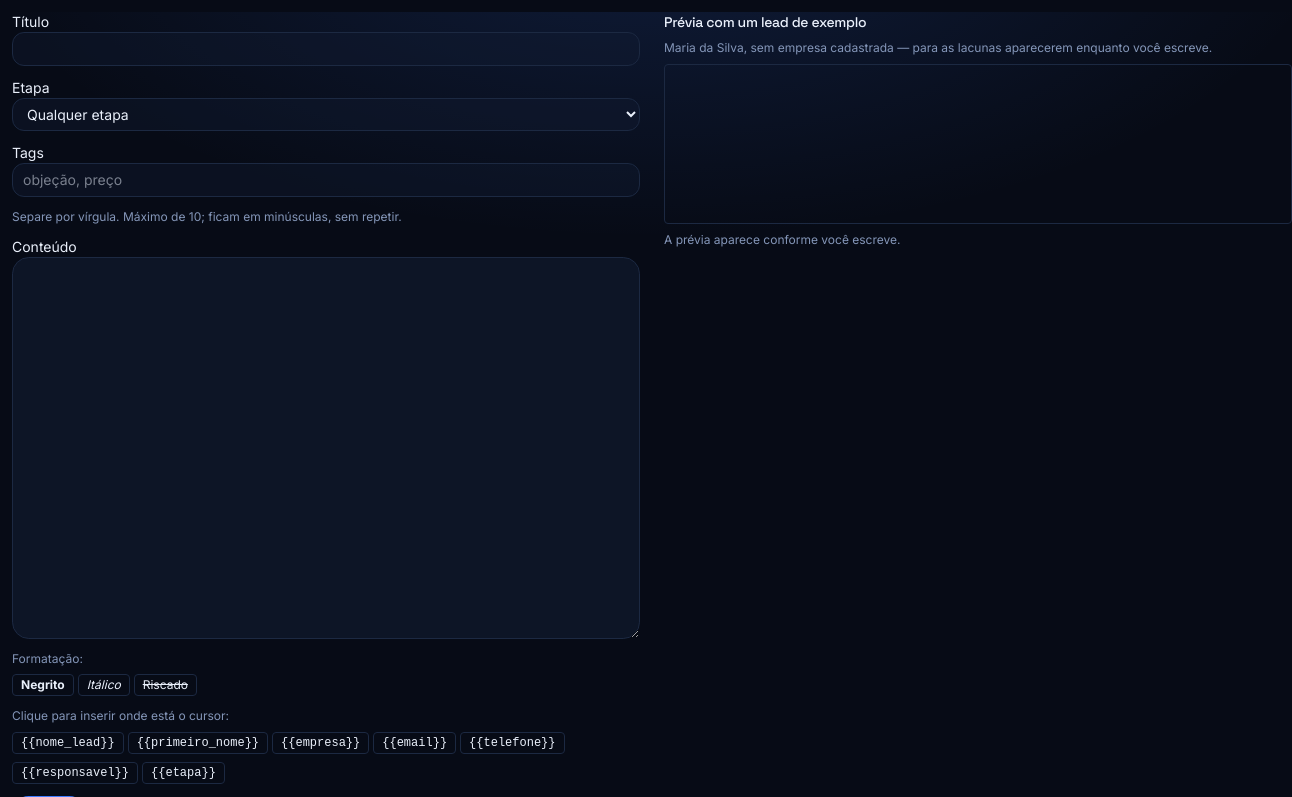
Scenario: Editor de script › Caso 3c: Negrito com selecao envolve exatamente a selecao
This screenshot has width=1292, height=797.
In the text box labelled "Conteúdo": (326, 448) [12,257,640,639], type "Olá mundo, tudo bem?"
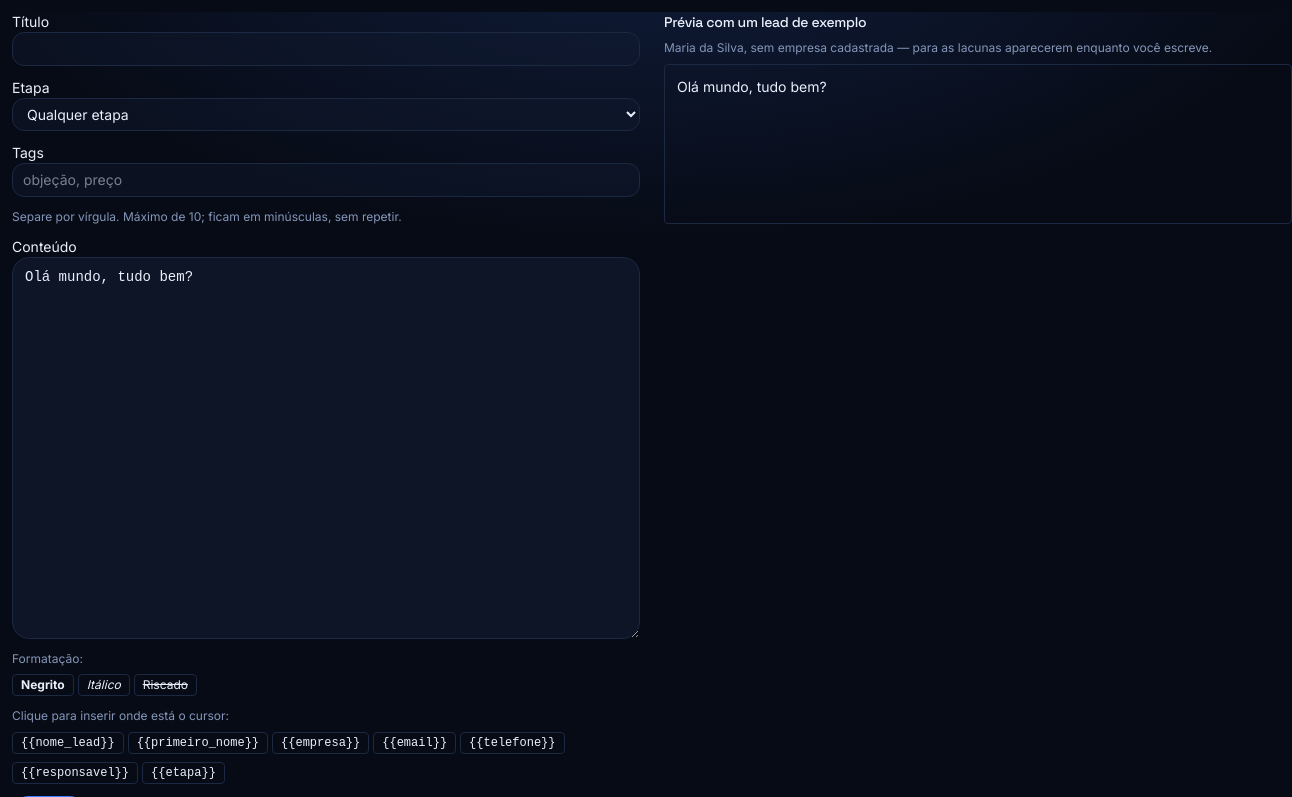
Click the button "Negrito": click(43, 685) [12,674,74,696]
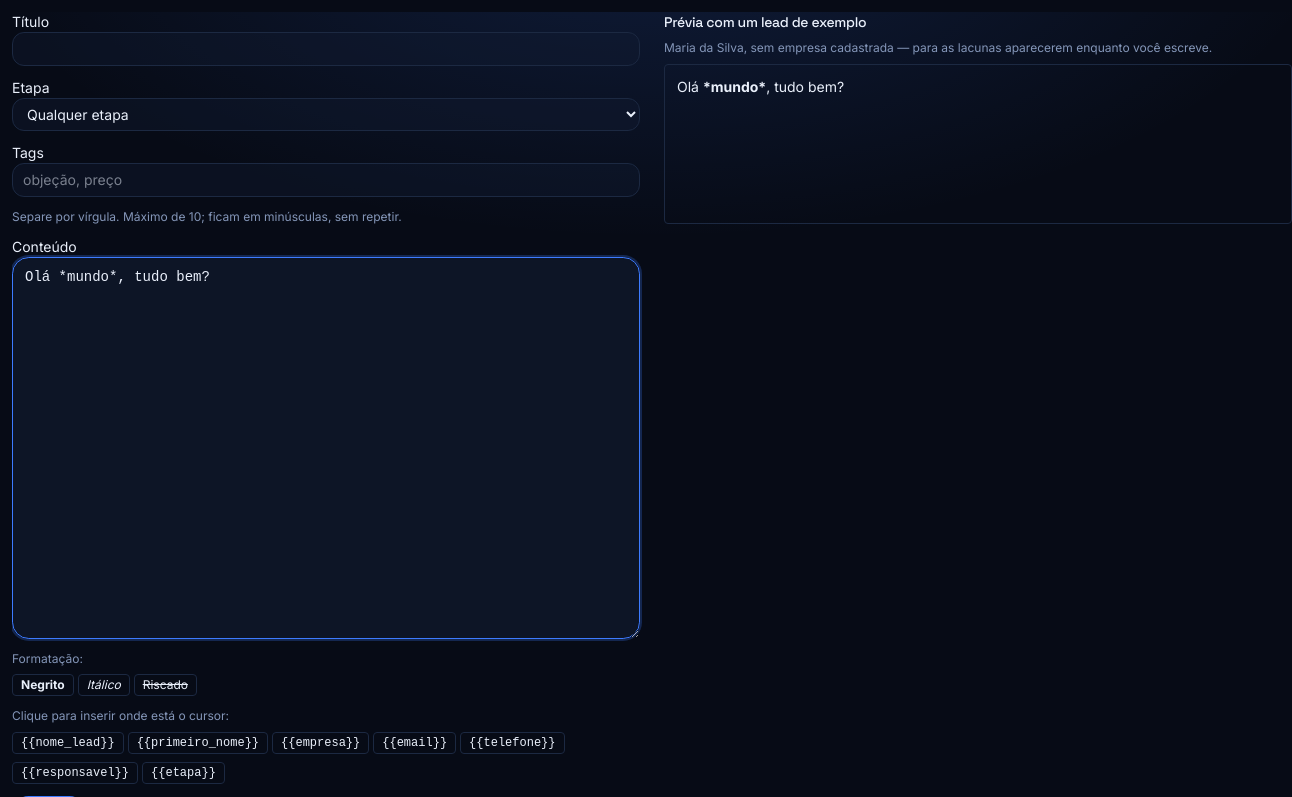
expect the text box labelled "Conteúdo" holds "Olá *mundo*, tudo bem?": met, box [12,257,640,639]
